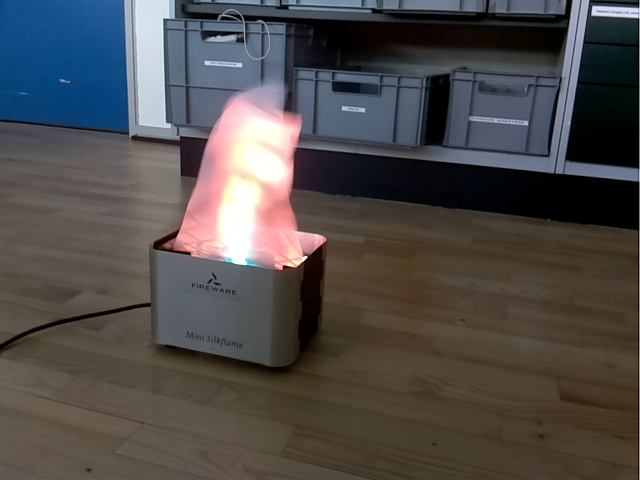fire: (172, 85, 304, 270)
